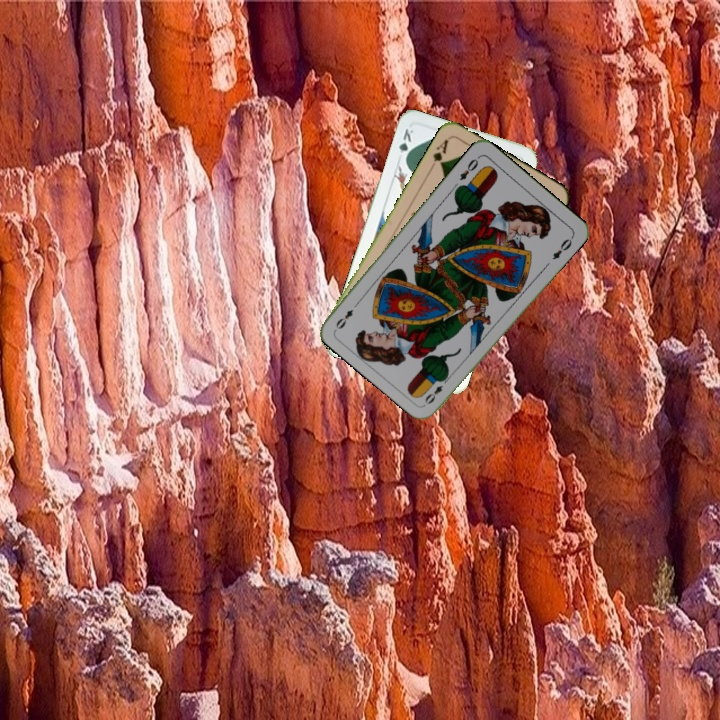EO: (421, 372, 452, 407), (455, 152, 482, 183)
GA: (426, 135, 452, 172)
GK: (395, 124, 416, 164)
